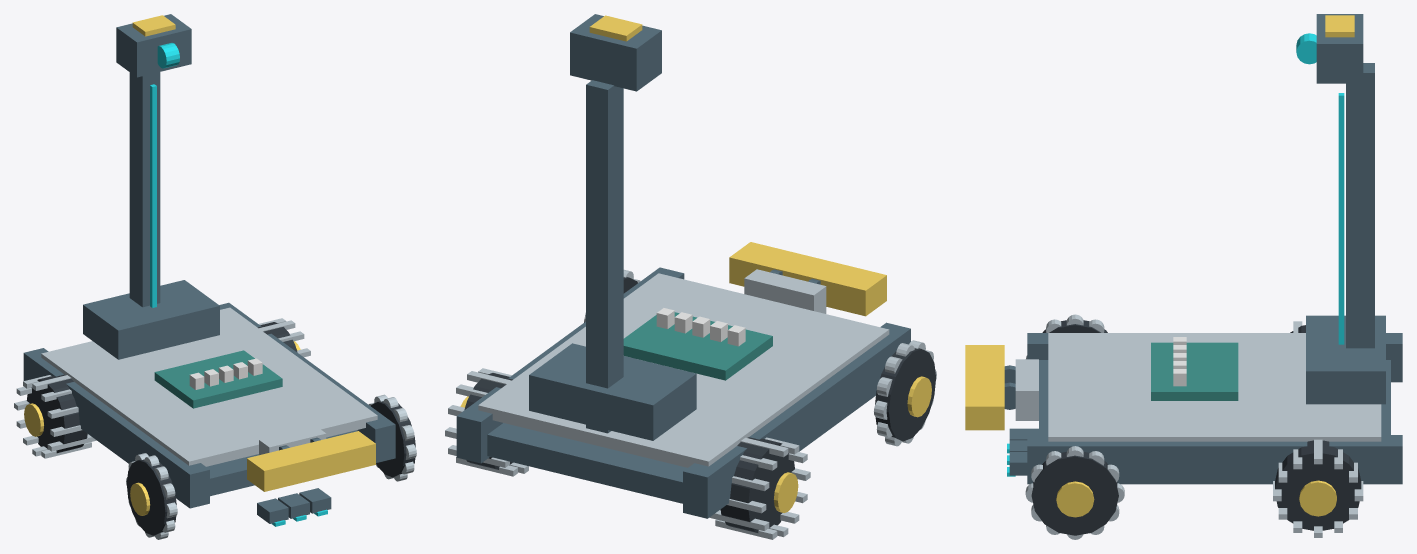
The model's file is mixed_omni_2wd_DRAFT.glb.
3 views of the same model, side by side, from view 1: azimuth 30°, elevation 25°; view 2: azimuth 150°, elevation 25°; view 3: azimuth 270°, elevation 25° (orthographic). The views are drawn at different scales.
Parts seen in each view (by area): view 1: Chassis_Top, Battery_Low_Rear, Camera_Mast, Chassis_Rail_-1, Universal_AttachmentDock_Fixed, Controller_PCB, Camera_Housing, Wheel_Rear_-1, Wheel_Front_-1, Chassis_Rail_1, Camera_Mast_Cyan, Chassis_Lower (+9 smaller); view 2: Chassis_Top, Camera_Mast, Battery_Low_Rear, Chassis_Rail_-1, Chassis_Lower, Universal_AttachmentDock_Fixed, Controller_PCB, Camera_Housing, Wheel_Rear_-1, Wheel_Front_-1, Chassis_Rail_1, Ultrasonic_Front (+4 smaller); view 3: Chassis_Top, Chassis_Rail_1, Camera_Mast, Battery_Low_Rear, Controller_PCB, Wheel_Front_1, Wheel_Rear_1, Universal_AttachmentDock_Fixed, Camera_Housing, Camera_Mast_Cyan, Ultrasonic_Front, Chassis_Rail_-1 (+5 smaller).
Boxes of the visible parts, <box> form: Chassis_Top: <box>41,307,377,466</box>; Battery_Low_Rear: <box>83,280,219,359</box>; Camera_Mast: <box>129,72,160,307</box>; Chassis_Rail_-1: <box>23,348,209,508</box>; Universal_AttachmentDock_Fixed: <box>247,431,375,491</box>; Controller_PCB: <box>154,350,282,408</box>; Camera_Housing: <box>116,14,191,77</box>; Wheel_Rear_-1: <box>26,374,87,453</box>; Wheel_Front_-1: <box>126,459,176,535</box>; Chassis_Rail_1: <box>219,302,395,462</box>; Camera_Mast_Cyan: <box>150,84,156,307</box>; Chassis_Lower: <box>206,430,357,496</box>; Chassis_Top: <box>478,273,889,467</box>; Camera_Mast: <box>586,80,623,433</box>; Battery_Low_Rear: <box>529,343,696,440</box>; Chassis_Rail_-1: <box>683,322,910,518</box>; Chassis_Lower: <box>487,423,687,503</box>; Universal_AttachmentDock_Fixed: <box>729,242,886,316</box>; Controller_PCB: <box>623,312,772,380</box>; Camera_Housing: <box>570,14,661,91</box>; Wheel_Rear_-1: <box>720,437,794,532</box>; Wheel_Front_-1: <box>875,348,935,441</box>; Chassis_Rail_1: <box>456,267,684,463</box>; Ultrasonic_Front: <box>744,269,826,313</box>; Chassis_Top: <box>1048,333,1381,441</box>; Chassis_Rail_1: <box>1027,435,1402,484</box>; Camera_Mast: <box>1346,63,1374,348</box>; Battery_Low_Rear: <box>1306,315,1385,404</box>; Controller_PCB: <box>1151,342,1238,400</box>; Wheel_Front_1: <box>1031,451,1118,535</box>; Wheel_Rear_1: <box>1275,440,1361,530</box>; Universal_AttachmentDock_Fixed: <box>965,345,1004,430</box>; Camera_Housing: <box>1316,14,1363,83</box>; Camera_Mast_Cyan: <box>1338,93,1344,344</box>; Ultrasonic_Front: <box>1015,359,1038,420</box>; Chassis_Rail_-1: <box>1027,333,1402,382</box>.
Bounding box in the file's own units: 0.238 × 0.34 × 0.3005.
